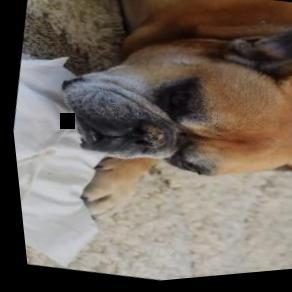keratosis: (125, 116, 169, 159)
